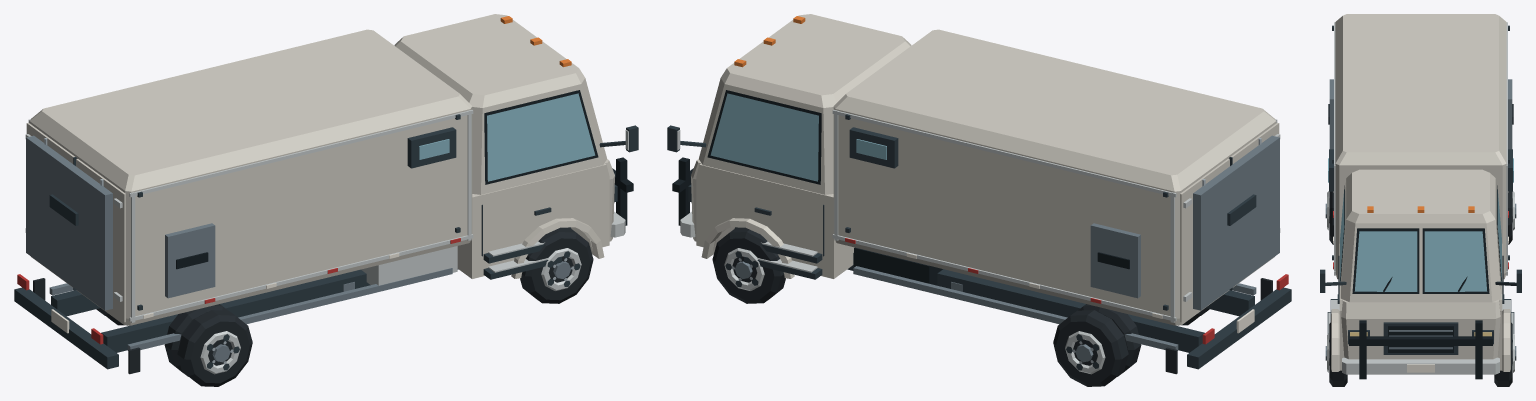
The model's file is b15_armored_security_truck.glb.
3 renders of one model, left to right at view 1: azimuth 30°, elevation 25°; view 2: azimuth 150°, elevation 25°; view 3: azimuth 270°, elevation 25°, orthographic. The views are drawn at different scales.
Visible parts, largest first — view 1: b15_armored_security_truck; view 2: b15_armored_security_truck; view 3: b15_armored_security_truck.
Part boxes in pixels (x1,y1,x2,y2): b15_armored_security_truck: (14, 14, 638, 386); b15_armored_security_truck: (667, 14, 1291, 386); b15_armored_security_truck: (1320, 14, 1521, 386).
Bounding box in the file's own units: 7.44 × 3.02 × 2.85.
